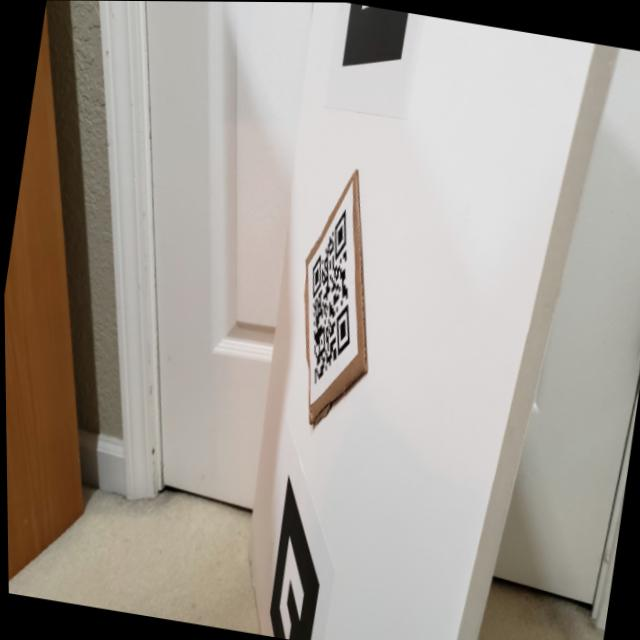QR_CODE: (276, 190, 380, 404)
